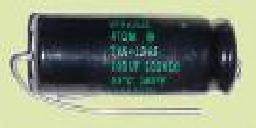Electrolytic-Capacitor: (11, 9, 243, 119)
